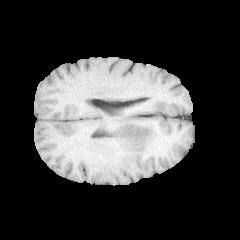glioma: (111, 120, 167, 153)
